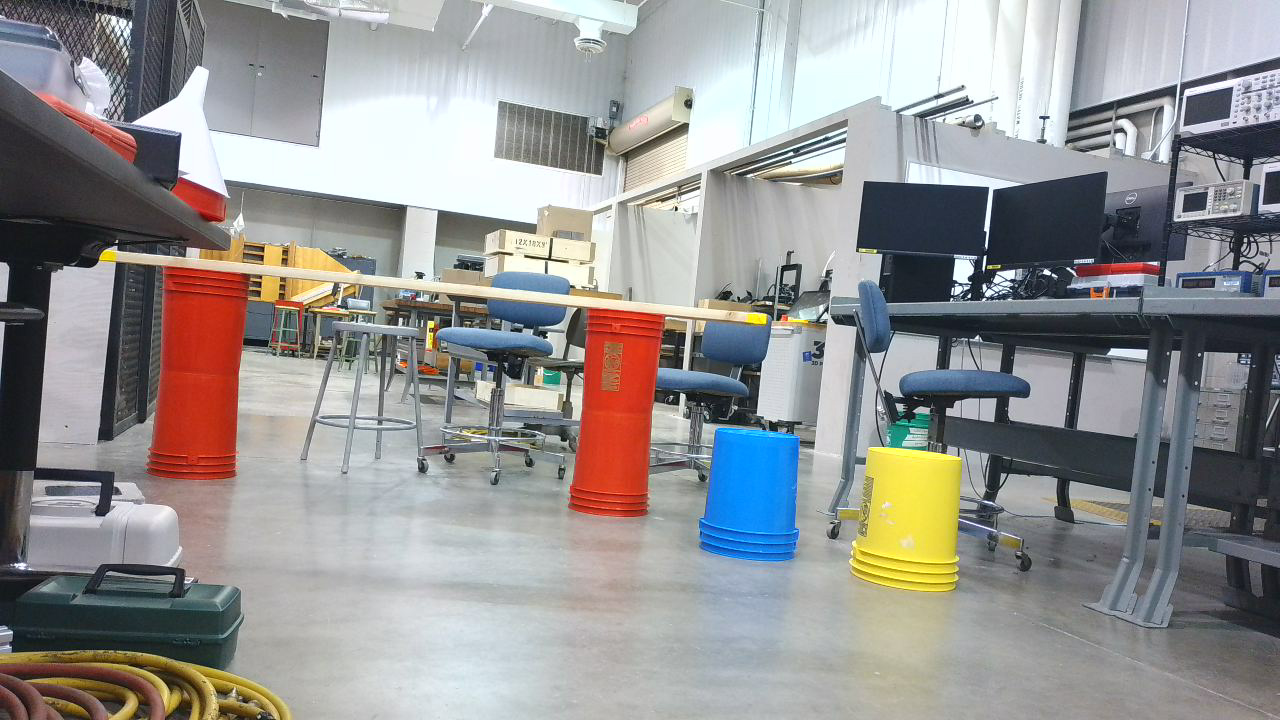blue_bucket: (700, 428, 809, 571)
red_bucket_arch: (148, 264, 673, 526)
yellow_bucket: (852, 446, 972, 600)
